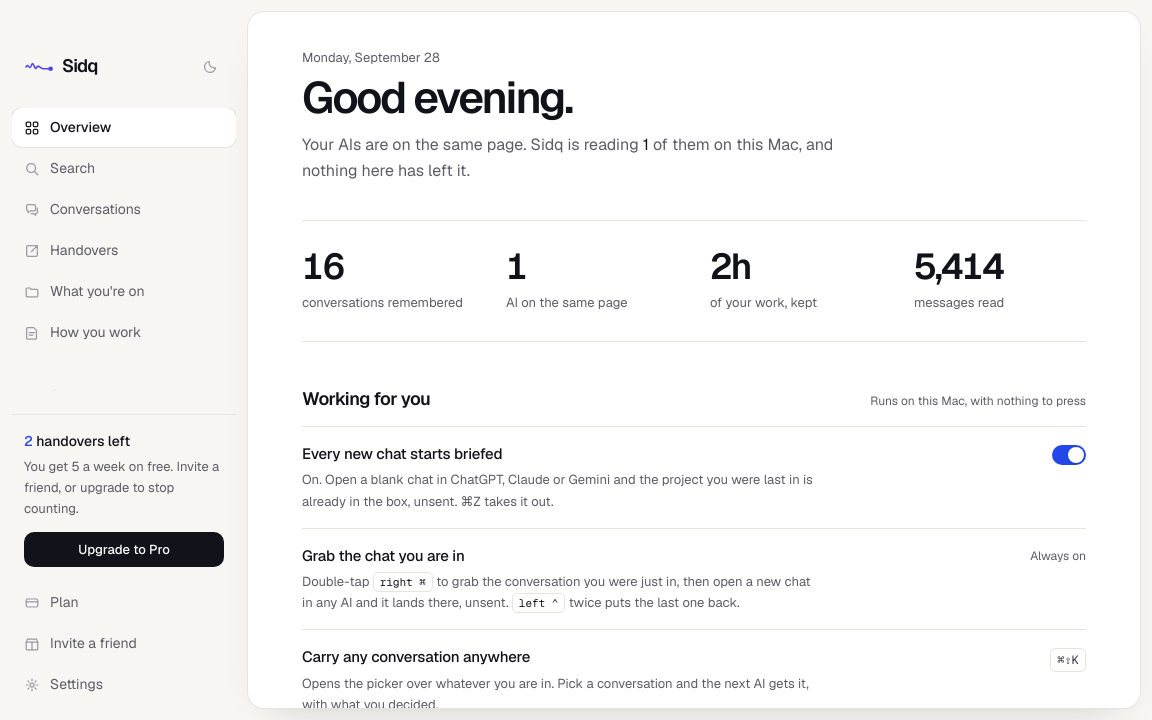
the panel headings › the invite eyebrow states the weekly limit before the code is handed out
The width and height of the screenshot is (1152, 720).
Click the button "Invite a friend".
click(124, 644)  # box [12, 624, 236, 663]
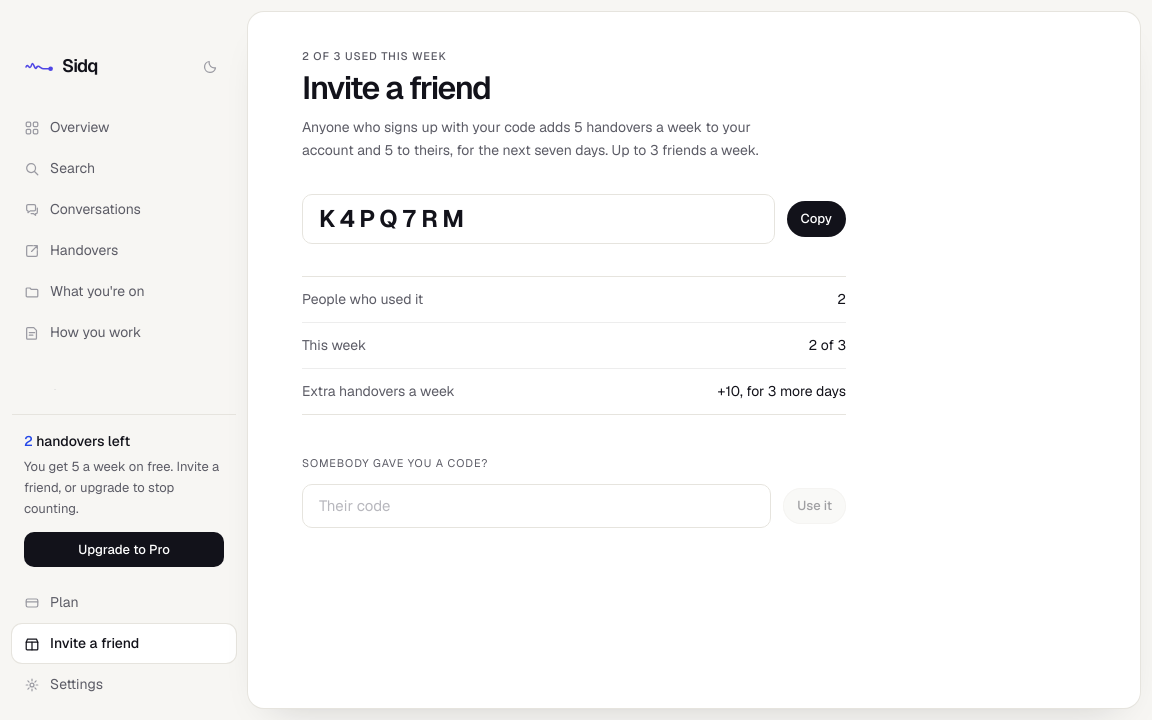
Check: the text "2 OF 3 USED THIS WEEK" is shown, box [302, 49, 446, 63]
